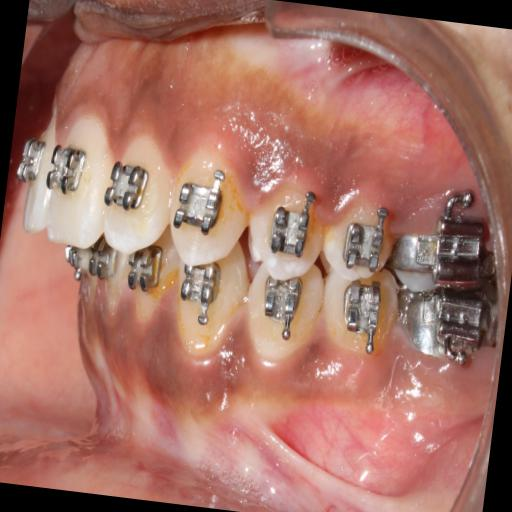correct_brace: (242, 176, 334, 286), (168, 177, 230, 238), (44, 136, 92, 202), (103, 158, 150, 216)
incorrect_brace: (98, 132, 179, 256), (265, 200, 320, 261)
